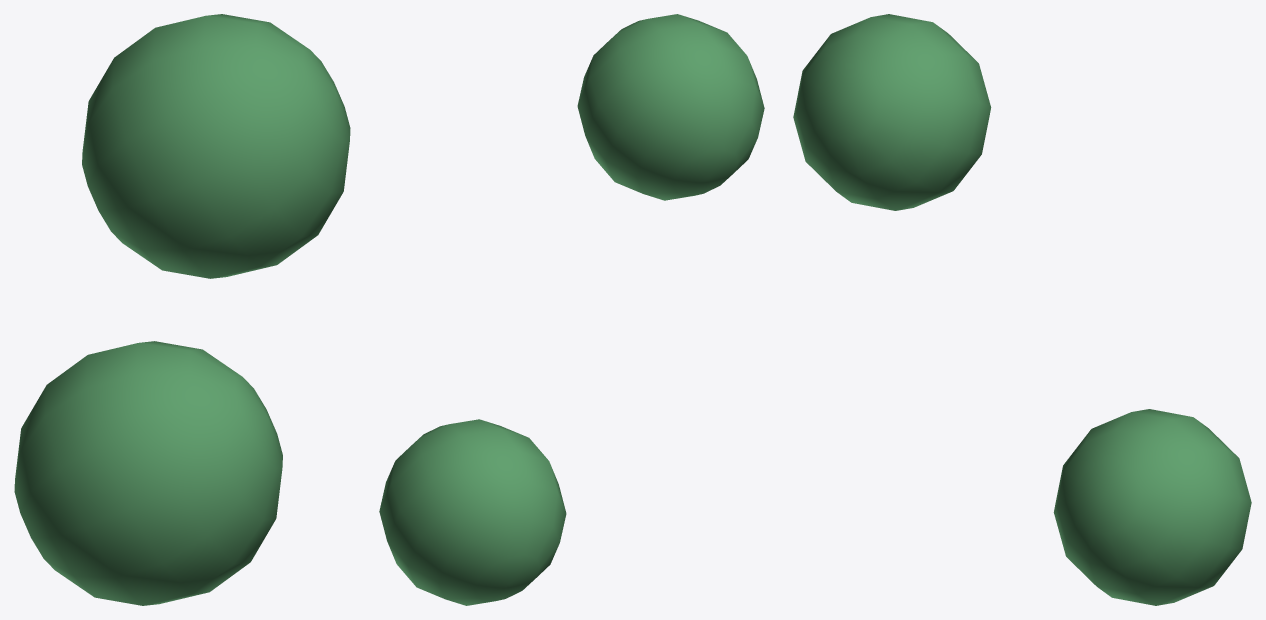
The picture shows the model from 3 angles, left to right: view 1: azimuth 30°, elevation 25°; view 2: azimuth 150°, elevation 25°; view 3: azimuth 270°, elevation 25°; orthographic projection. The views are drawn at different scales.
Visible parts, largest first — view 1: 右侧耳下淋巴结; view 2: 右侧耳下淋巴结; view 3: 右侧耳下淋巴结.
Boxes of the visible parts, box(x1,y1,x2,y2) form: 右侧耳下淋巴结: box(14, 14, 350, 605); 右侧耳下淋巴结: box(379, 14, 764, 605); 右侧耳下淋巴结: box(793, 14, 1251, 605).
Bounding box in the file's own units: 0.00561 × 0.0113 × 0.00881.
